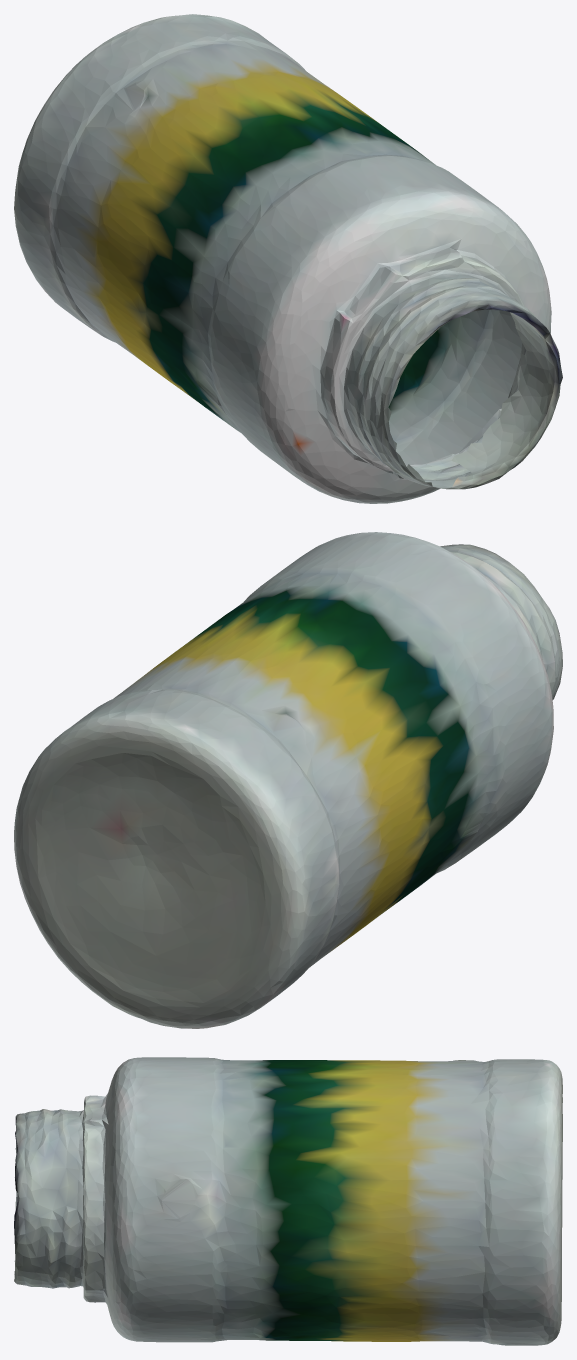
File: scan.obj
3 renders of one model, top to bottom at view 1: azimuth 30°, elevation 25°; view 2: azimuth 150°, elevation 25°; view 3: azimuth 270°, elevation 25°, orthographic. The views are drawn at different scales.
Parts seen in each view (by area): view 1: scan.ply; view 2: scan.ply; view 3: scan.ply.
Boxes of the visible parts, <box> form: scan.ply: <box>14,14,562,503</box>; scan.ply: <box>14,532,562,1028</box>; scan.ply: <box>14,1057,562,1345</box>.
Bounding box in the file's own units: 0.0622 × 0.0627 × 0.1194.
